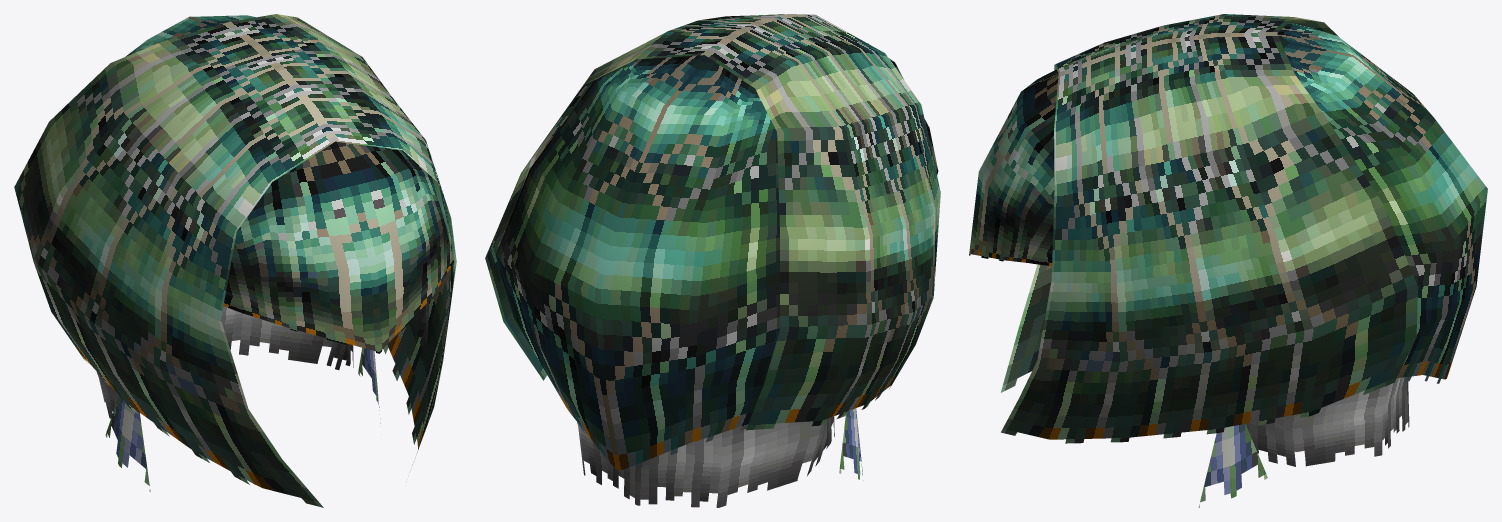
Rendered from f_hair092.glb.
The picture shows the model from 3 angles, left to right: view 1: azimuth 30°, elevation 25°; view 2: azimuth 150°, elevation 25°; view 3: azimuth 270°, elevation 25°; orthographic projection. The views are drawn at different scales.
Size of the model in its own units: 21.36 by 23.84 by 26.84.
Materials: 1 (1 with a texture image).
